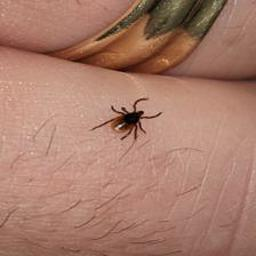Ixodes scapularis: (90, 97, 164, 140)
